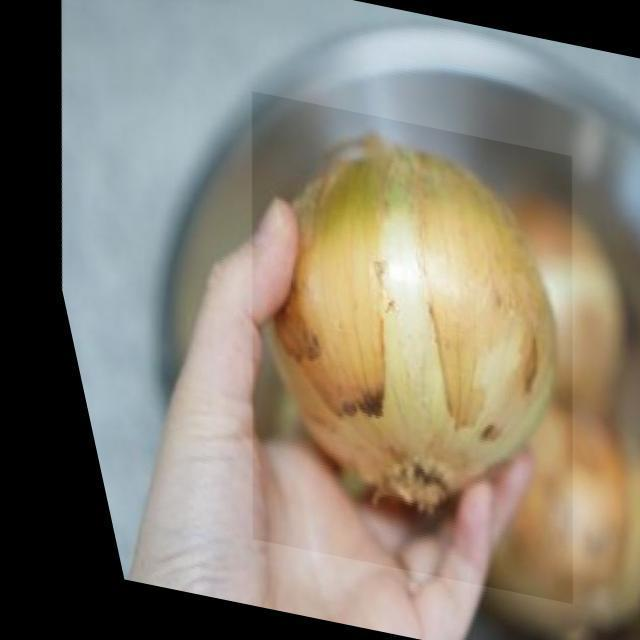Onion: (152, 91, 640, 604)
